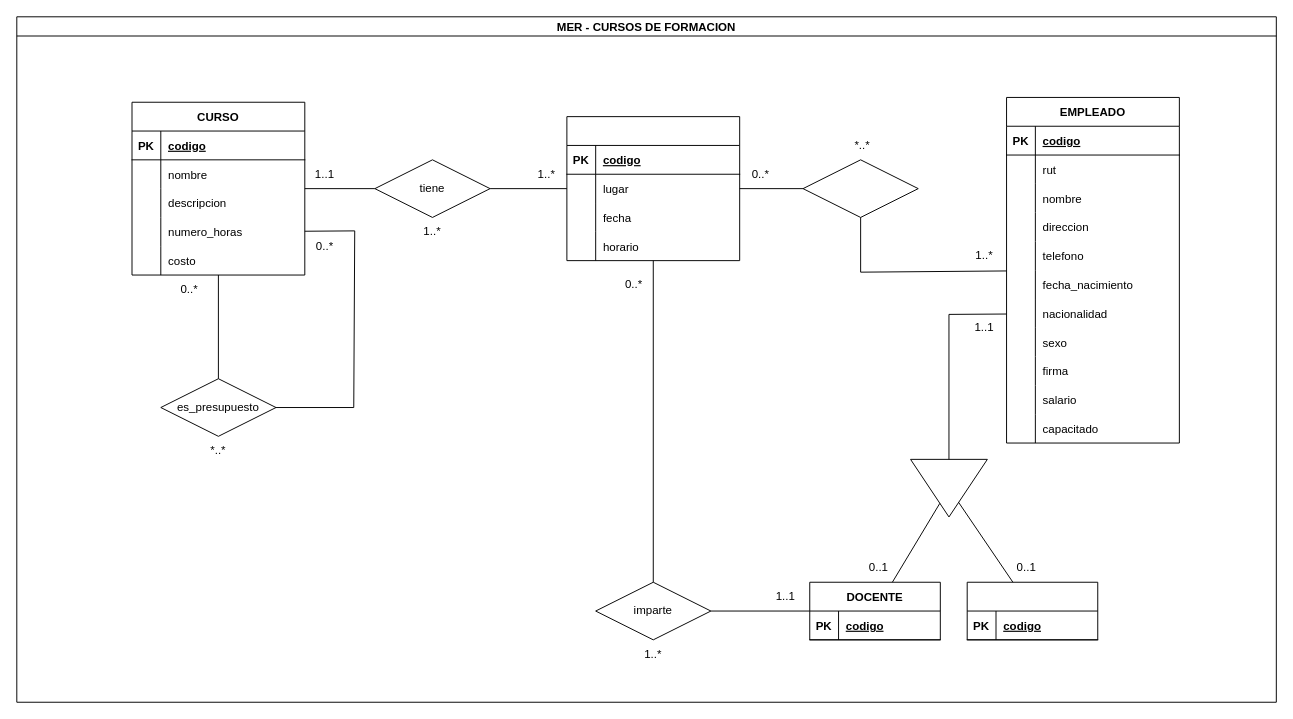
The diagram is 1293 pixels wide and 719 high, and some of its shapes have lost their labels. The box of each missing label's shape, as (x1, y1, x2, y2) in pixels:
ALUMNO: (966, 581, 1098, 640)
cursa: (802, 159, 918, 217)
EDICION: (566, 116, 740, 261)
